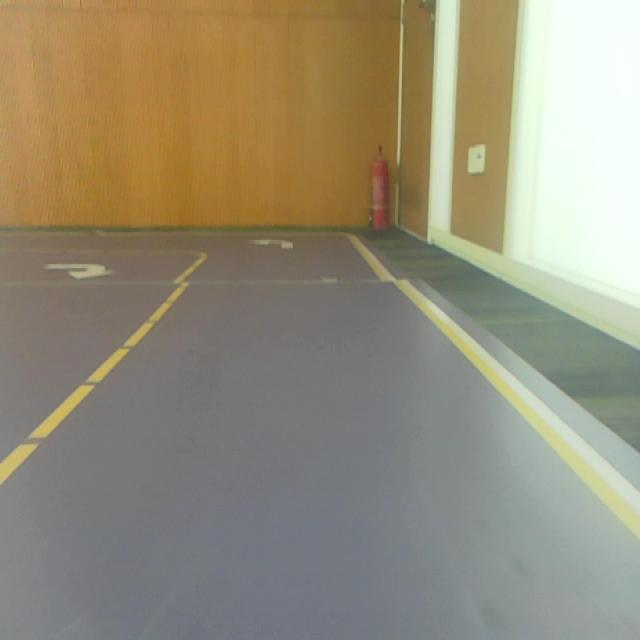left_lane: (2, 257, 204, 481)
right_lane: (352, 237, 640, 534)
